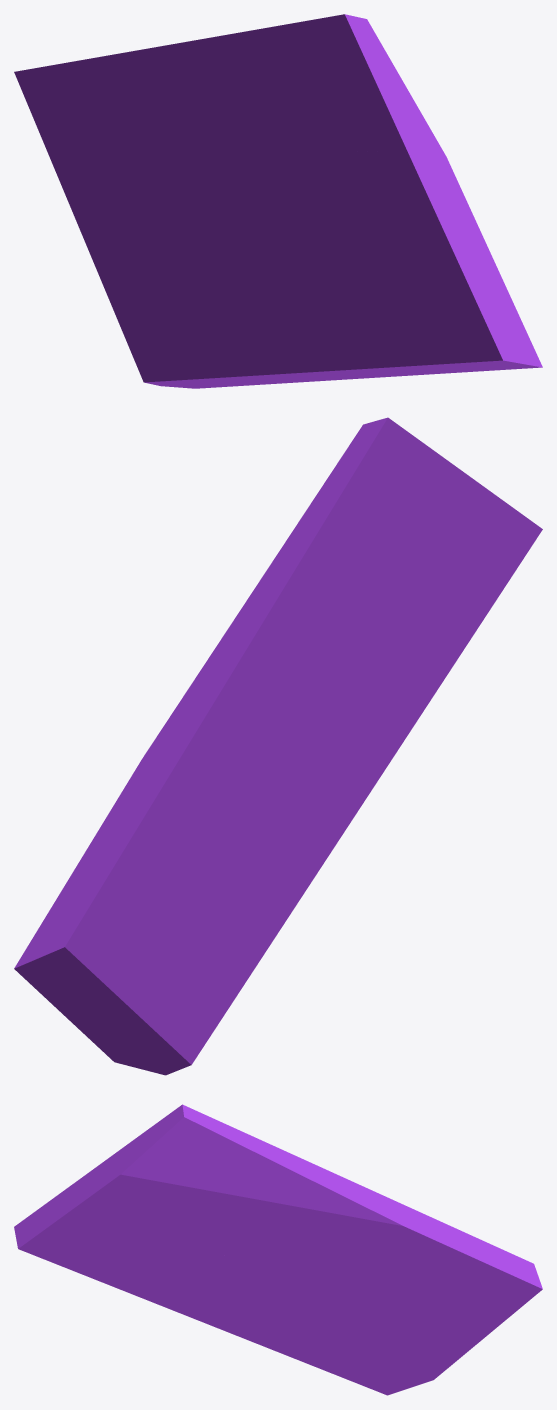
The model's file is Glass_68_4_chunks.fbx.
The picture shows the model from 3 angles, top to bottom: view 1: azimuth 30°, elevation 25°; view 2: azimuth 150°, elevation 25°; view 3: azimuth 270°, elevation 25°; orthographic projection. The views are drawn at different scales.
Parts seen in each view (by area): view 1: Glass_68_4_2, Glass_68_4_0, Glass_68_4_3, Glass_68_4_1; view 2: Glass_68_4_0, Glass_68_4_2, Glass_68_4_3, Glass_68_4_1; view 3: Glass_68_4_3, Glass_68_4_0, Glass_68_4_1, Glass_68_4_2.
Part boxes in pixels (x1,y1,x2,y2): Glass_68_4_2: [205, 150, 542, 373]; Glass_68_4_0: [14, 45, 210, 386]; Glass_68_4_3: [169, 14, 481, 232]; Glass_68_4_1: [154, 249, 445, 388]; Glass_68_4_0: [14, 698, 256, 1075]; Glass_68_4_2: [251, 461, 542, 838]; Glass_68_4_3: [171, 417, 448, 756]; Glass_68_4_1: [202, 790, 371, 1048]; Glass_68_4_3: [83, 1104, 374, 1273]; Glass_68_4_0: [326, 1189, 542, 1390]; Glass_68_4_1: [120, 1268, 400, 1395]; Glass_68_4_2: [14, 1153, 256, 1289].
Size of the model in its own units: 27.2 by 314 by 537.
